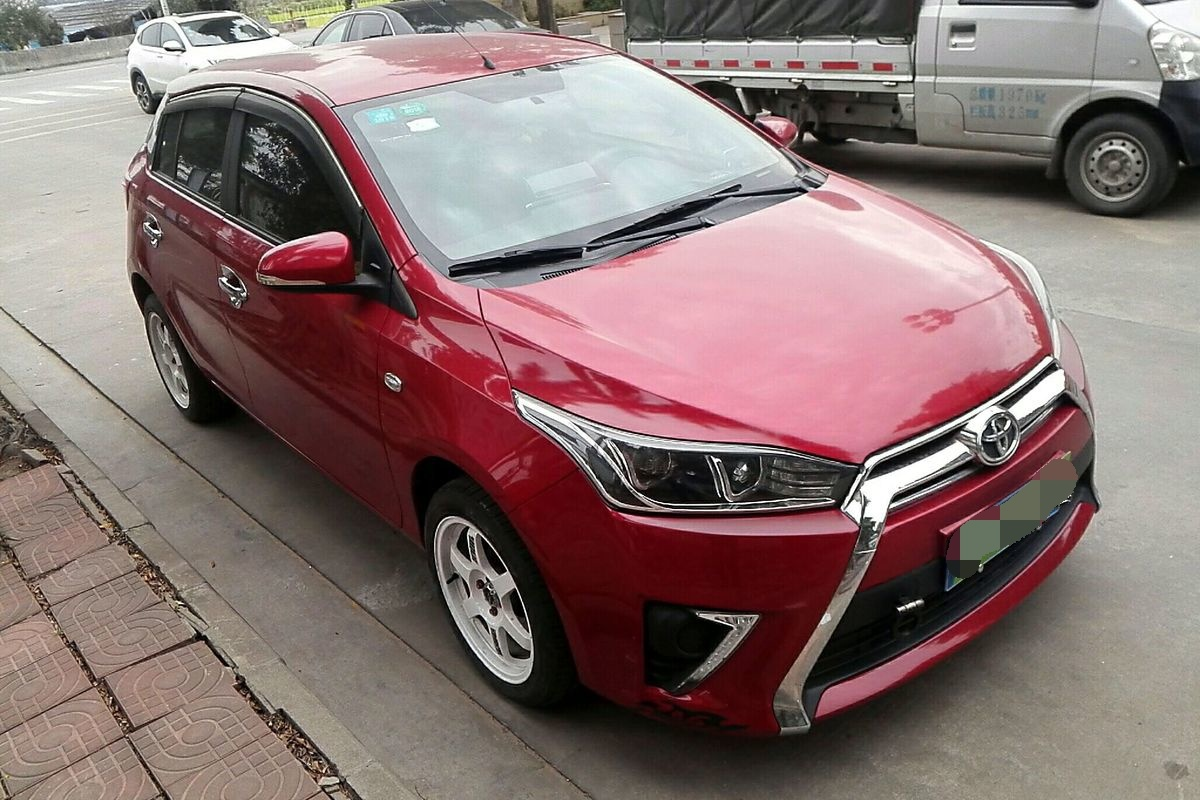family sedan: (129, 28, 1107, 748)
